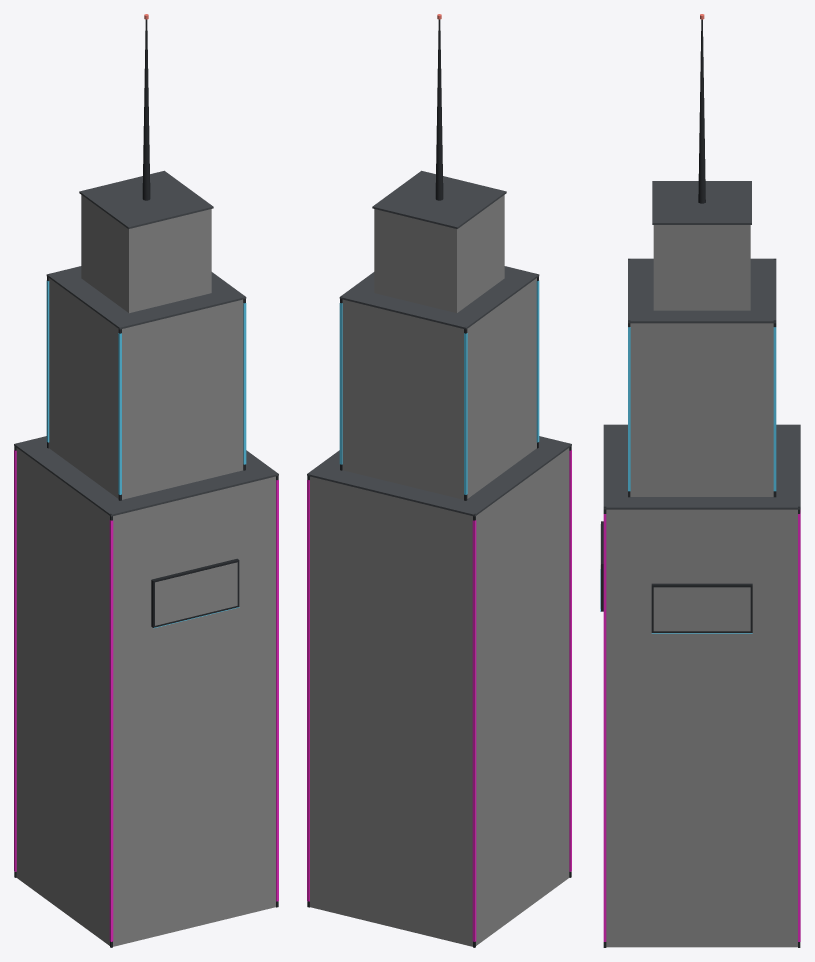
The model's file is Skyline_Tower_A.fbx.
The picture shows the model from 3 angles, left to right: view 1: azimuth 30°, elevation 25°; view 2: azimuth 150°, elevation 25°; view 3: azimuth 270°, elevation 25°; orthographic projection.
Visible parts, largest first — view 1: Skyline_Tower_A_LOD0; view 2: Skyline_Tower_A_LOD0; view 3: Skyline_Tower_A_LOD0.
Part boxes in pixels (x1,y1,x2,y2): Skyline_Tower_A_LOD0: (14,14,278,947); Skyline_Tower_A_LOD0: (307,14,571,947); Skyline_Tower_A_LOD0: (600,14,800,947).
Size of what is drawn, in the model's own units: 29.68 by 146 by 29.68.
